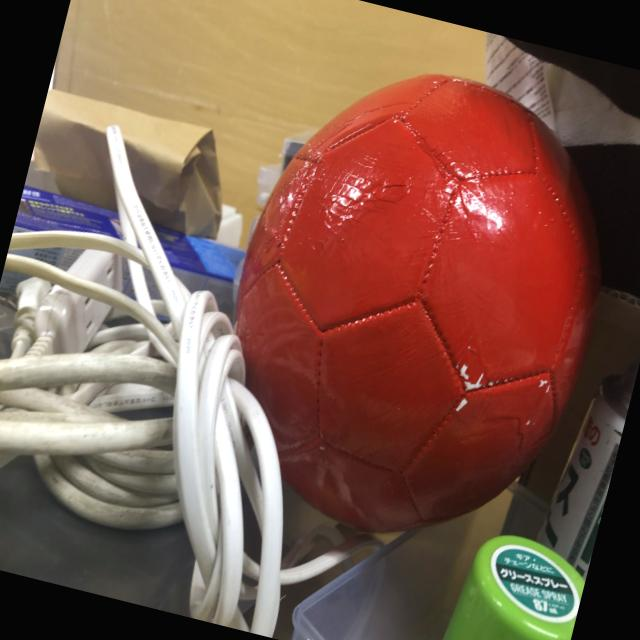red_ball: (187, 39, 640, 580)
